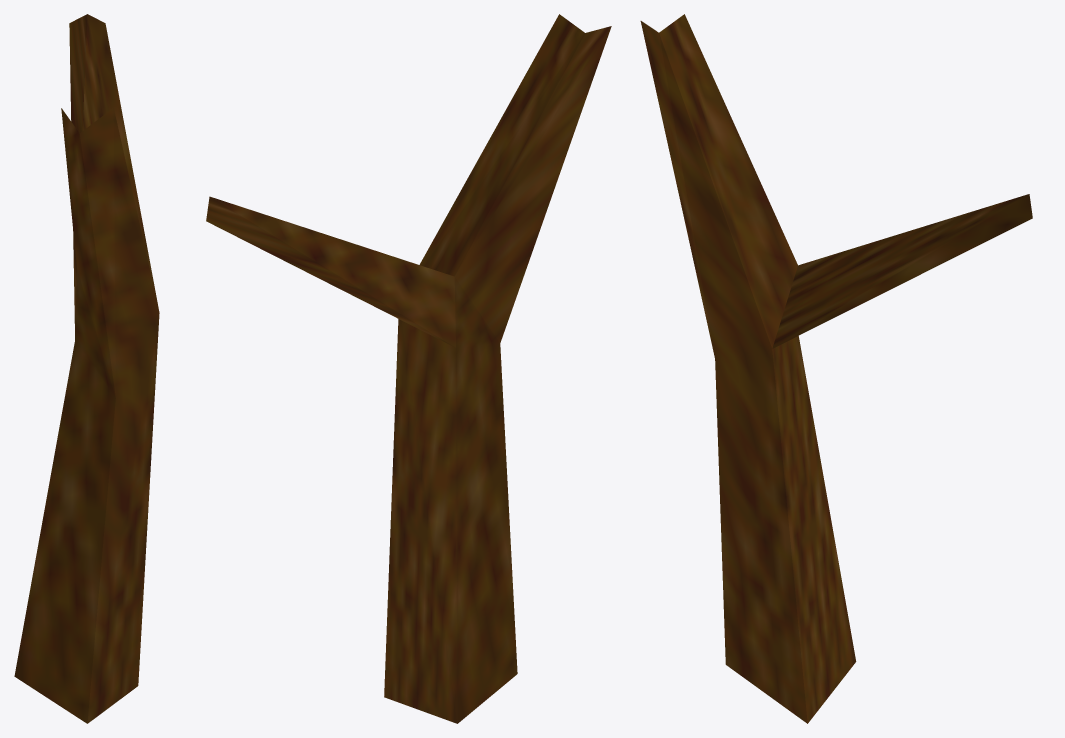
File: treebranch02.glb
3 renders of one model, left to right at view 1: azimuth 30°, elevation 25°; view 2: azimuth 150°, elevation 25°; view 3: azimuth 270°, elevation 25°, orthographic. The views are drawn at different scales.
Visible parts, largest first — view 1: treebranch02; view 2: treebranch02; view 3: treebranch02.
Part boxes in pixels (<box>): treebranch02: <box>14,14,159,723</box>; treebranch02: <box>206,14,611,723</box>; treebranch02: <box>640,14,1032,723</box>.
Bounding box in the file's own units: 235 × 652 × 377.
Materials: 1 (1 with a texture image).
